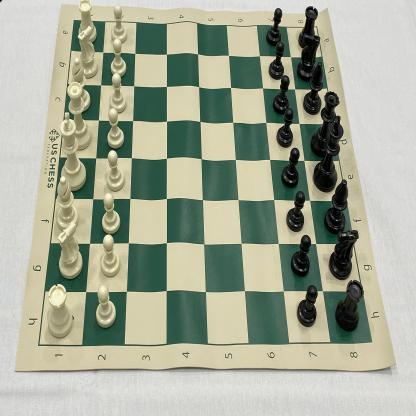black-bishop: (322, 178, 348, 233), (303, 61, 322, 114)
black-king: (314, 115, 345, 190)
black-knight: (328, 228, 359, 281), (298, 30, 320, 81)
black-pawn: (296, 281, 318, 328), (290, 235, 312, 278), (286, 190, 306, 232), (281, 147, 300, 187), (276, 108, 294, 149), (266, 7, 283, 47), (268, 41, 285, 80), (273, 75, 290, 114)
black-queen: (312, 90, 339, 156)
black-rook: (335, 279, 364, 333), (299, 5, 319, 51)
white-bishop: (55, 175, 79, 230), (71, 56, 91, 112)
white-king: (59, 112, 86, 192)
white-knight: (56, 222, 83, 280), (76, 26, 99, 79)
white-pawn: (94, 285, 117, 329), (100, 235, 121, 278), (101, 192, 121, 235), (107, 149, 125, 190), (106, 108, 124, 148), (111, 5, 128, 44), (110, 39, 127, 77), (109, 73, 125, 113)
white-queen: (66, 82, 91, 151)
white-rook: (46, 282, 74, 338), (78, 0, 97, 43)
